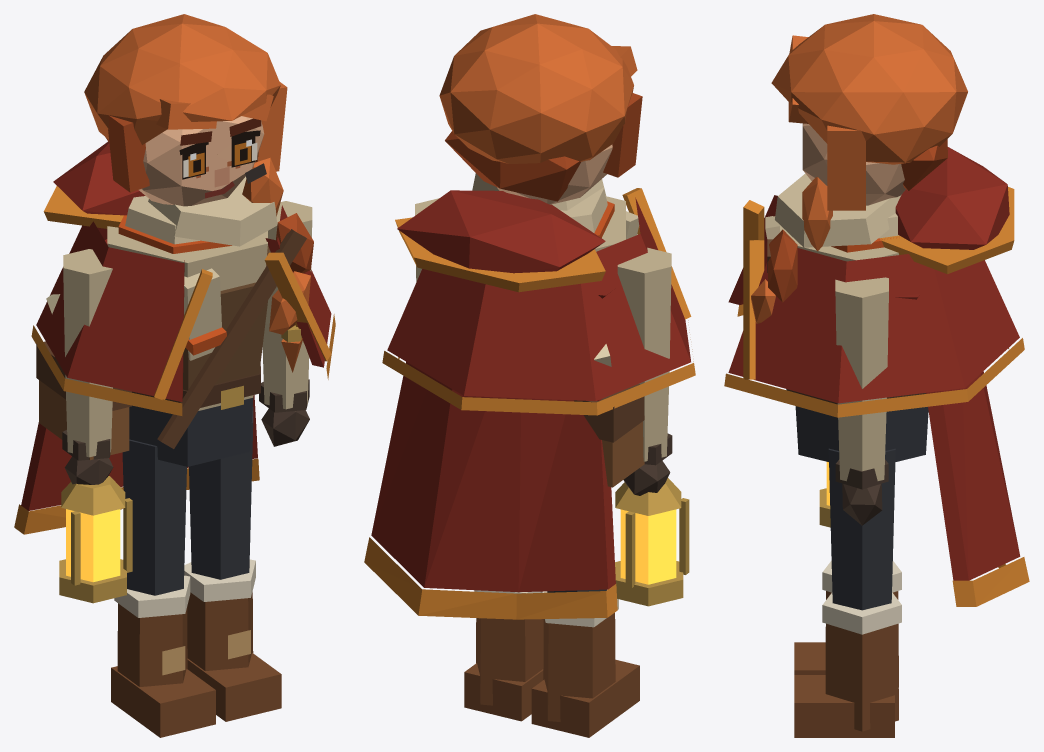
Rendered from wren-low.glb.
3 renders of one model, left to right at view 1: azimuth 30°, elevation 25°; view 2: azimuth 150°, elevation 25°; view 3: azimuth 270°, elevation 25°, orthographic. The views are drawn at different scales.
Parts seen in each view (by area): view 1: cloak, head, torso, knee_R, knee_L, lantern, leg_R, leg_L, hips, hood_down, elbow_L, elbow_R (+4 smaller); view 2: cloak, head, hood_down, knee_R, lantern, knee_L, arm_R, satchel, torso, elbow_R; view 3: cloak, head, knee_L, hood_down, torso, leg_L, elbow_L, arm_L, hips, knee_R, lantern.
Part boxes in pixels (x1,y1,x2,y2): cloak: [14, 205, 335, 534]; head: [84, 14, 287, 206]; torso: [107, 157, 313, 448]; knee_R: [111, 555, 215, 737]; knee_L: [184, 539, 281, 721]; lantern: [59, 476, 132, 603]; leg_R: [122, 439, 186, 561]; leg_L: [189, 407, 253, 545]; hips: [129, 398, 253, 466]; hood_down: [43, 141, 145, 228]; elbow_L: [259, 323, 309, 446]; elbow_R: [62, 375, 113, 484]; cloak: [364, 188, 695, 619]; head: [439, 14, 642, 204]; hood_down: [395, 190, 605, 292]; knee_R: [531, 589, 639, 737]; lantern: [615, 478, 689, 606]; knee_L: [464, 590, 543, 721]; arm_R: [617, 247, 671, 373]; satchel: [574, 344, 644, 487]; torso: [472, 173, 639, 251]; elbow_R: [623, 372, 672, 495]; cloak: [724, 195, 1029, 606]; head: [771, 14, 967, 210]; knee_L: [794, 568, 901, 737]; hood_down: [880, 147, 1014, 274]; torso: [751, 173, 925, 404]; leg_L: [828, 448, 895, 575]; elbow_L: [835, 397, 888, 525]; arm_L: [835, 277, 888, 401]; hips: [795, 406, 928, 461]; knee_R: [794, 560, 901, 687]; lantern: [819, 462, 830, 527].
Size of the model in its own units: 0.8304 by 1.96 by 0.7886.
